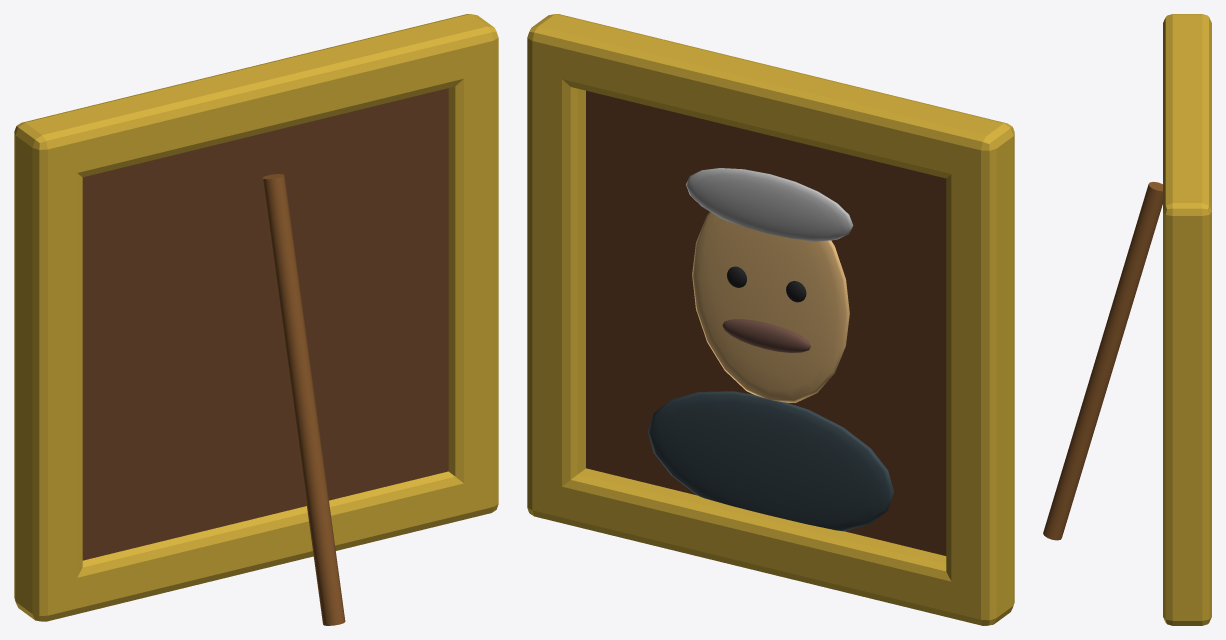
Rendered from portrait.fbx.
The picture shows the model from 3 angles, left to right: view 1: azimuth 30°, elevation 25°; view 2: azimuth 150°, elevation 25°; view 3: azimuth 270°, elevation 25°; orthographic projection. The views are drawn at different scales.
Parts seen in each view (by area): view 1: Portrait of Grandpa; view 2: Portrait of Grandpa; view 3: Portrait of Grandpa.
Part boxes in pixels (box(x1,y1,x2,y2)): Portrait of Grandpa: box(14, 14, 498, 625); Portrait of Grandpa: box(527, 14, 1014, 625); Portrait of Grandpa: box(1043, 14, 1211, 625).
Size of the model in its own units: 1.9 by 1.93 by 0.6886.
